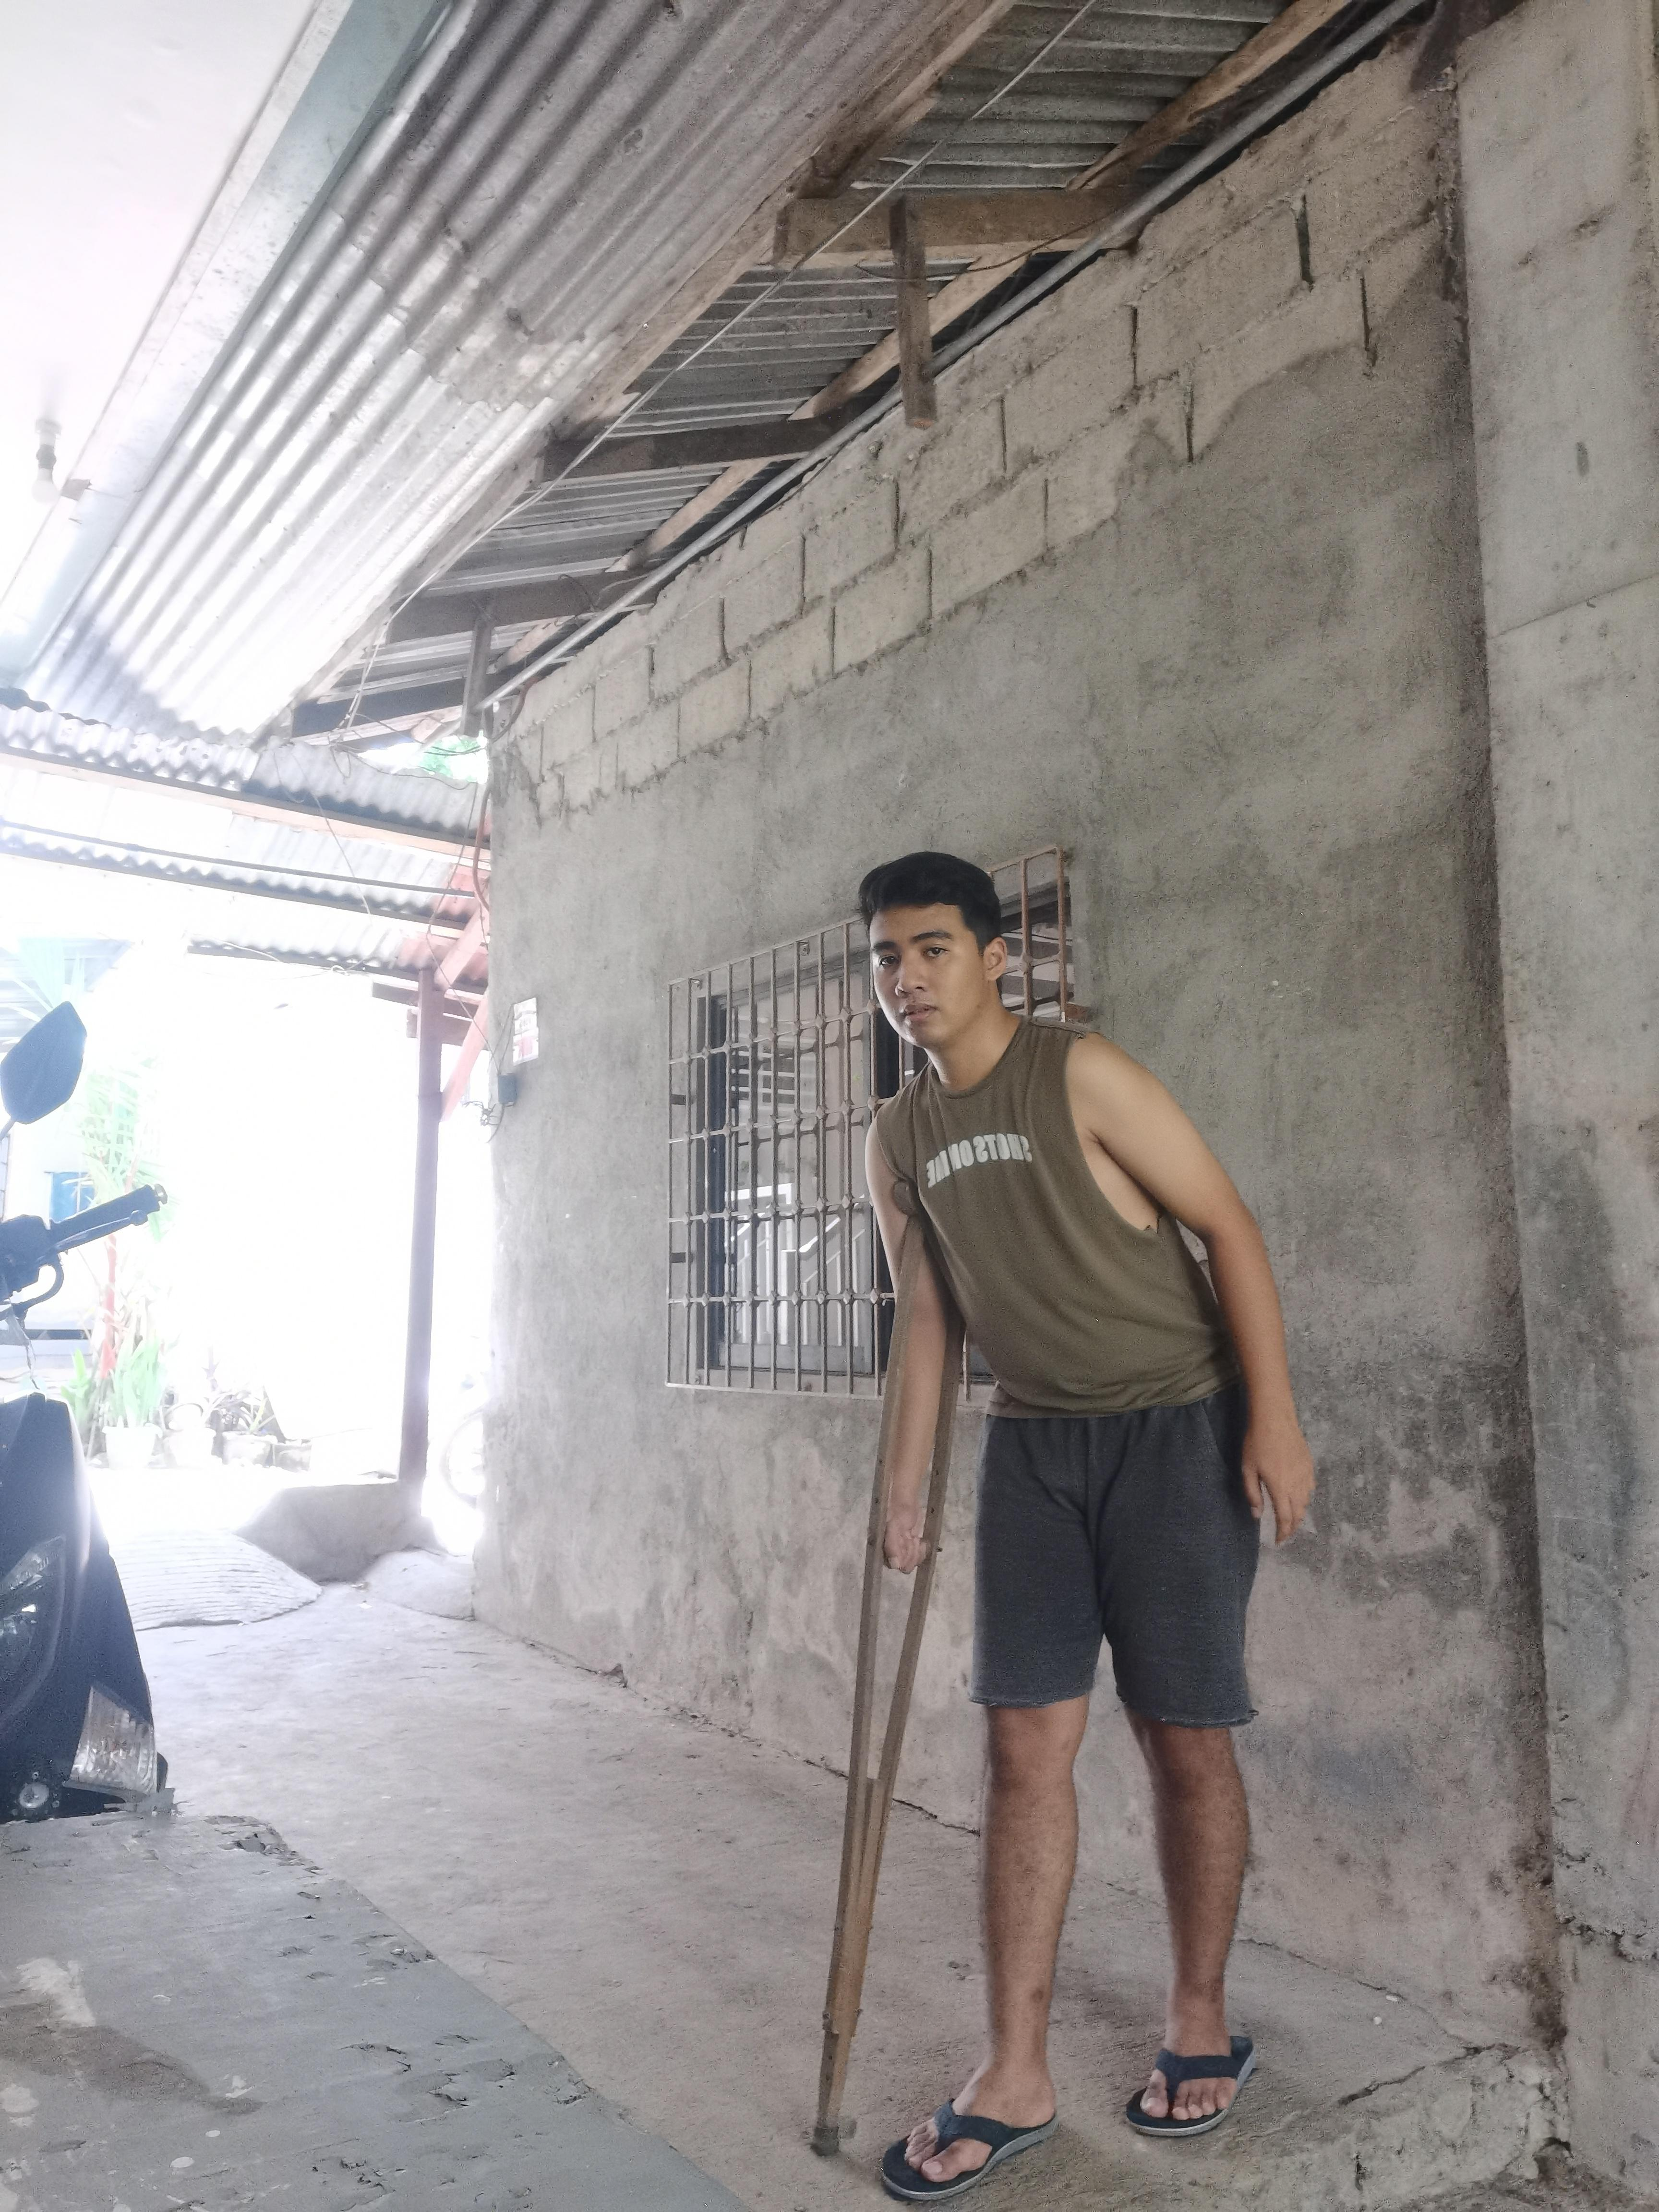crutches: (798, 836, 1324, 2212)
